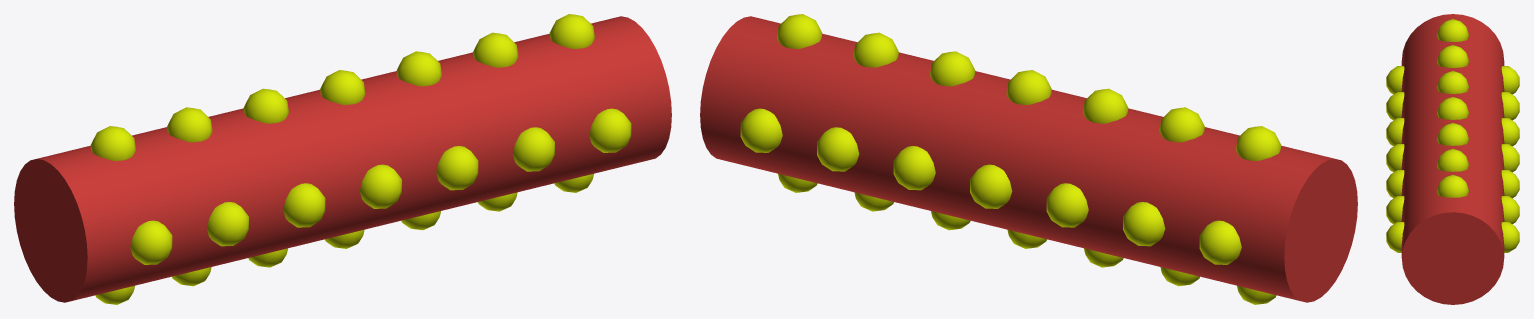
The model's file is obstacle02.fbx.
The picture shows the model from 3 angles, left to right: view 1: azimuth 30°, elevation 25°; view 2: azimuth 150°, elevation 25°; view 3: azimuth 270°, elevation 25°; orthographic projection. The views are drawn at different scales.
Visible parts, largest first — view 1: obstacle01; view 2: obstacle01; view 3: obstacle01.
Part boxes in pixels (x1,y1,x2,y2): obstacle01: (14, 14, 671, 304); obstacle01: (700, 14, 1357, 304); obstacle01: (1386, 14, 1519, 304).
Size of the model in its own units: 1.64 by 0.466 by 0.466.
